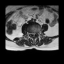CCS_normal: (33, 32, 34, 38)
LFS_severe_stenosis: (36, 31, 37, 35)
LLS_severe_stenosis: (34, 31, 36, 36)
RFS_severe_stenosis: (29, 31, 31, 36)
RLS_stenosis: (31, 31, 33, 36)
